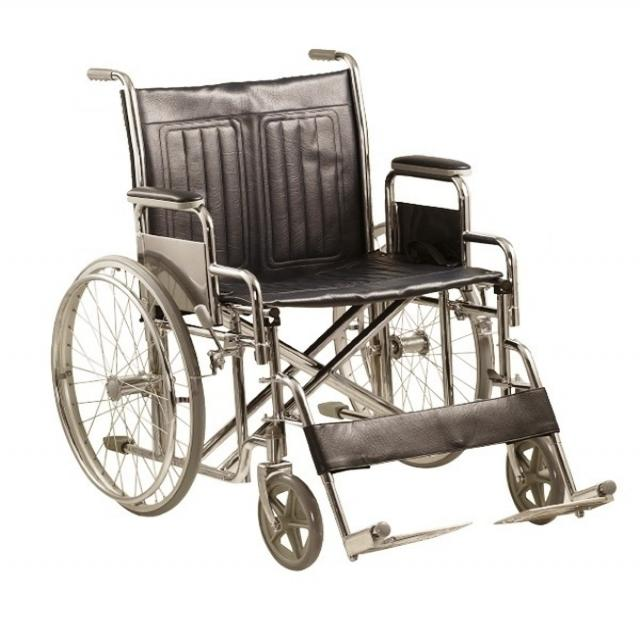wheelchair: (43, 12, 632, 585)
